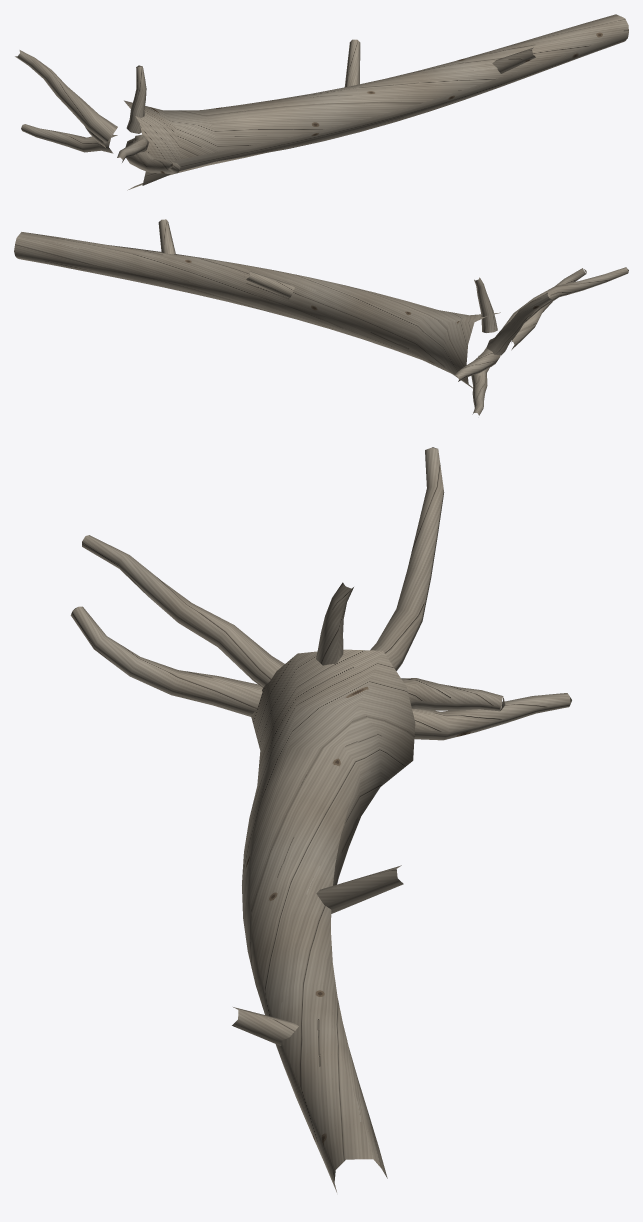
The picture shows the model from 3 angles, top to bottom: view 1: azimuth 30°, elevation 25°; view 2: azimuth 150°, elevation 25°; view 3: azimuth 270°, elevation 25°; orthographic projection. The views are drawn at different scales.
Visible parts, largest first — view 1: debris; view 2: debris; view 3: debris.
Boxes of the visible parts, <box> form: debris: <box>15,14,628,190</box>; debris: <box>14,219,628,415</box>; debris: <box>70,447,571,1192</box>.
Size of the model in its own units: 4.29 by 0.9917 by 1.68.
Materials: 1 (1 with a texture image).
